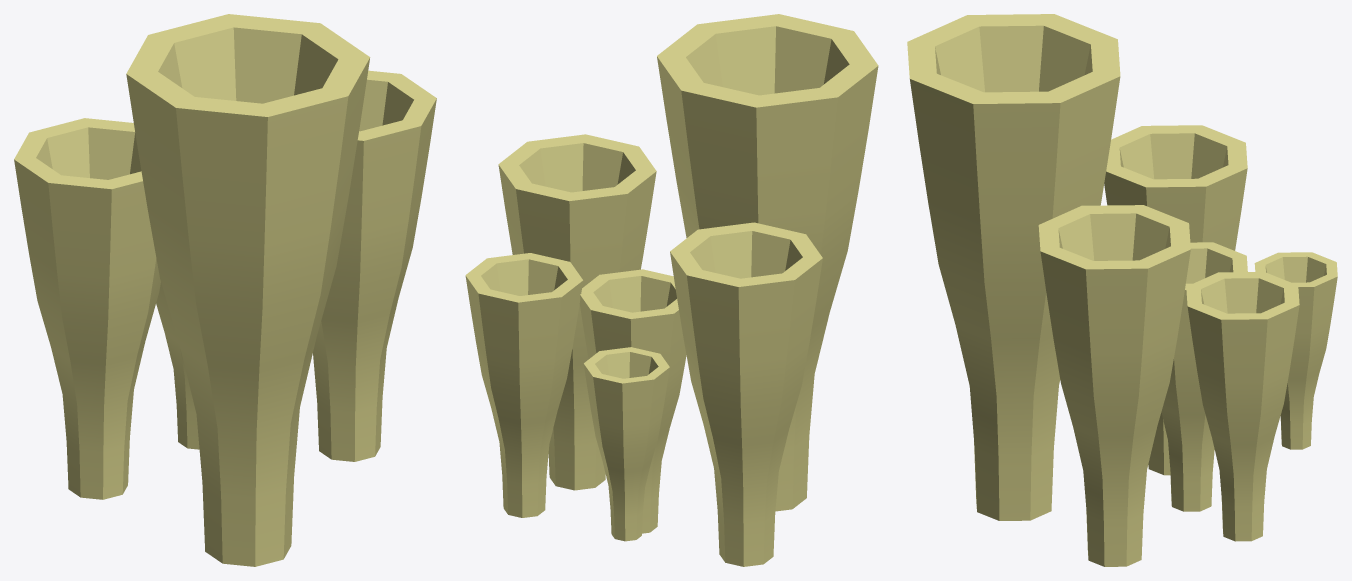
Rendered from coral 2.fbx.
The picture shows the model from 3 angles, left to right: view 1: azimuth 30°, elevation 25°; view 2: azimuth 150°, elevation 25°; view 3: azimuth 270°, elevation 25°; orthographic projection. The views are drawn at different scales.
Visible parts, largest first — view 1: coral 1; view 2: coral 1; view 3: coral 1.
Part boxes in pixels (x1,y1,x2,y2): coral 1: (14, 14, 436, 566); coral 1: (465, 14, 878, 566); coral 1: (907, 14, 1337, 566).
Size of the model in its own units: 924 by 1185 by 1037.
